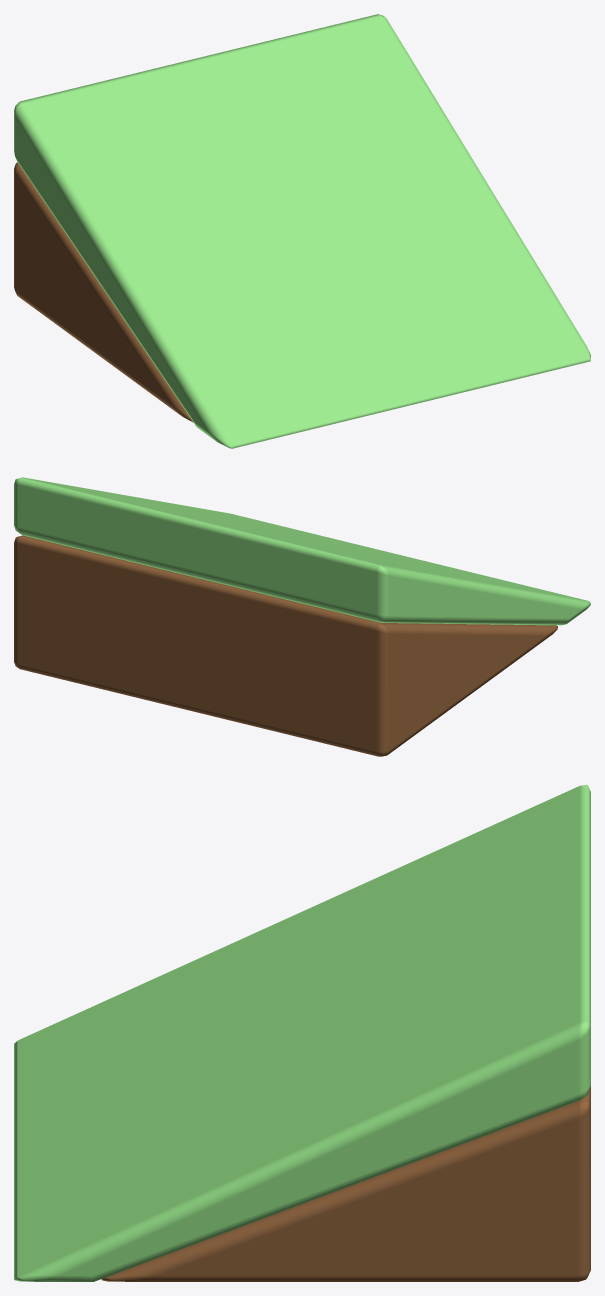
Rendered from Ramp - 0.5x1.glb.
3 renders of one model, top to bottom at view 1: azimuth 30°, elevation 25°; view 2: azimuth 150°, elevation 25°; view 3: azimuth 270°, elevation 25°, orthographic. The views are drawn at different scales.
Visible parts, largest first — view 1: Ramp 0.5x1; view 2: Ramp 0.5x1; view 3: Ramp 0.5x1.
Boxes of the visible parts, x1,y1,x2,y2 form: Ramp 0.5x1: (14, 14, 590, 448); Ramp 0.5x1: (14, 477, 590, 756); Ramp 0.5x1: (14, 785, 590, 1281).
Bounding box in the file's own units: 2 × 0.9833 × 1.98.
